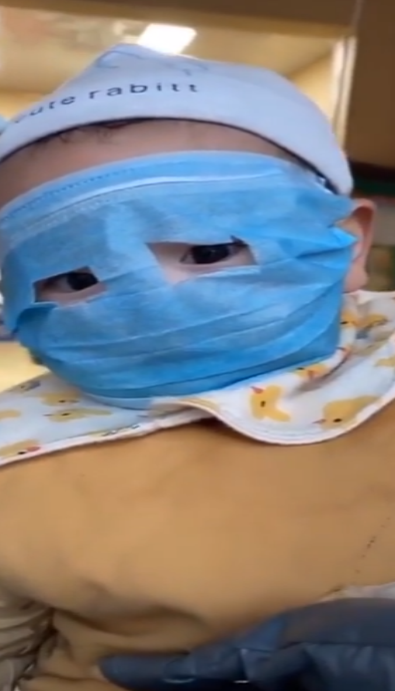mask_weared_incorrect: (1, 47, 380, 402)
